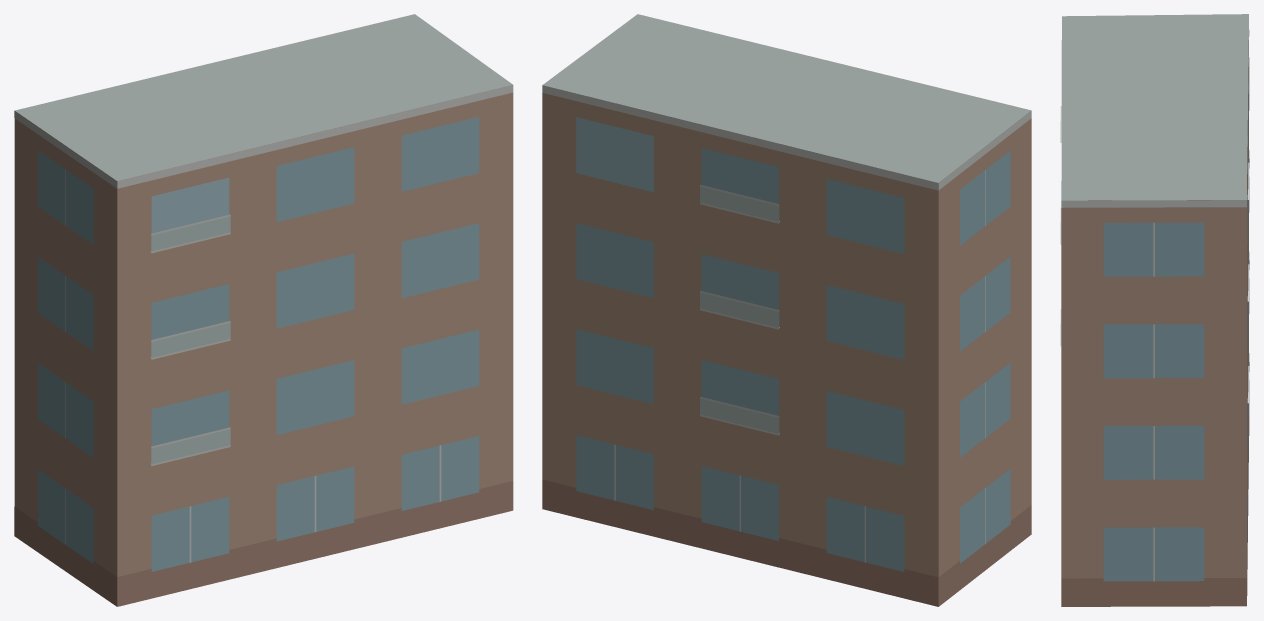
Rendered from survey-upis-33034142.glb.
The picture shows the model from 3 angles, left to right: view 1: azimuth 30°, elevation 25°; view 2: azimuth 150°, elevation 25°; view 3: azimuth 270°, elevation 25°; orthographic projection. The views are drawn at different scales.
Visible parts, largest first — view 1: survey-upis-33034142.tmp; view 2: survey-upis-33034142.tmp; view 3: survey-upis-33034142.tmp.
Part boxes in pixels (x1,y1,x2,y2): survey-upis-33034142.tmp: [14, 14, 513, 606]; survey-upis-33034142.tmp: [542, 14, 1031, 606]; survey-upis-33034142.tmp: [1060, 14, 1249, 606].
Bounding box in the file's own units: 13.4 × 13.6 × 5.74.
